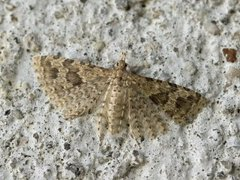Alucitidae: (34, 47, 213, 146)
moth: (32, 45, 211, 144)
